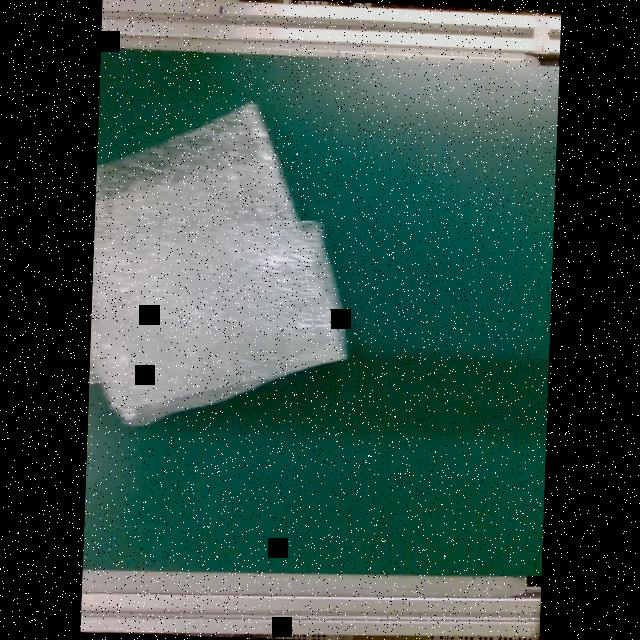scrap_plastic: (89, 96, 357, 433)
